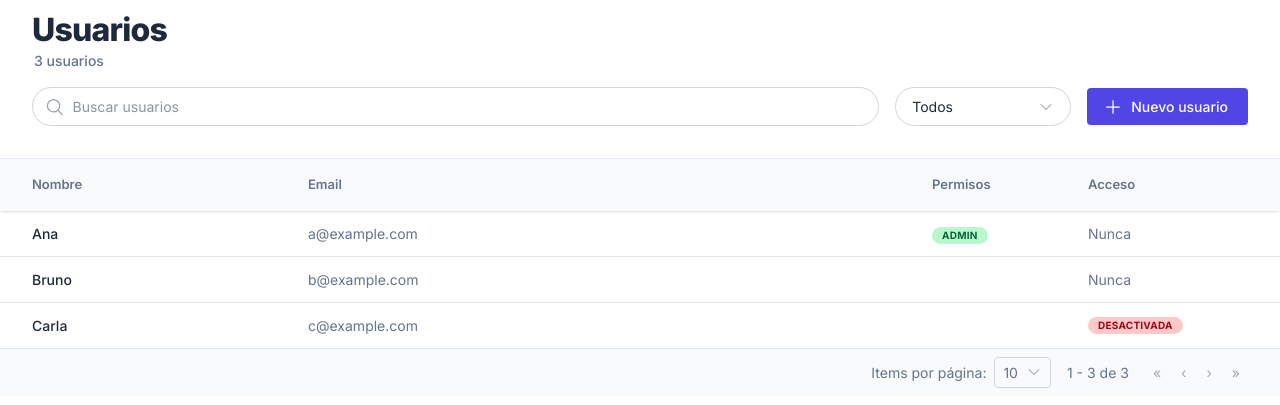
Scenario: AccountsList › filtra por administradores y por quien no tiene acceso
Expected: the text "Ana" is shown, [32,225,58,242]
Click the dropdown named "Filtrar usuarios". click: (983, 106)
box: [895,87,1071,126]
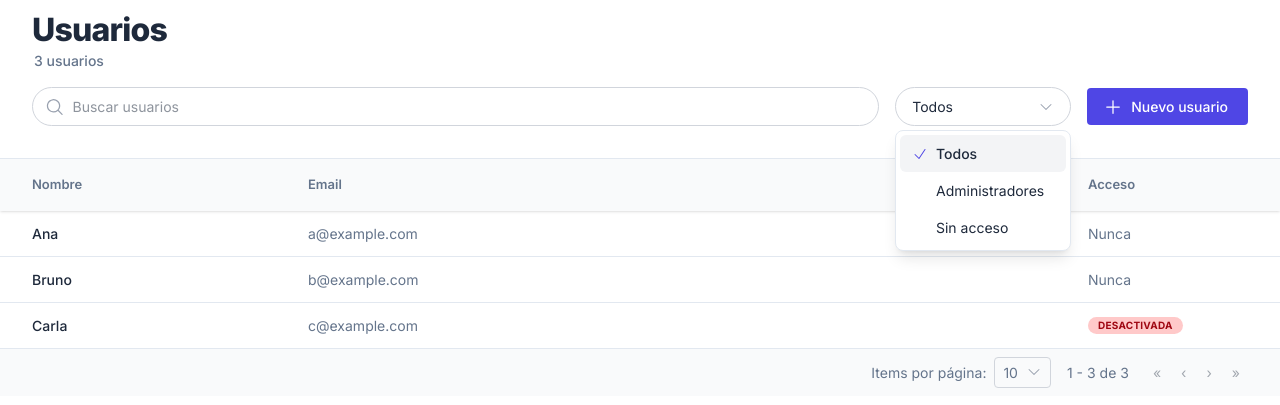
Click the option "Administradores". click: (990, 190)
box: [936,182,1044,199]
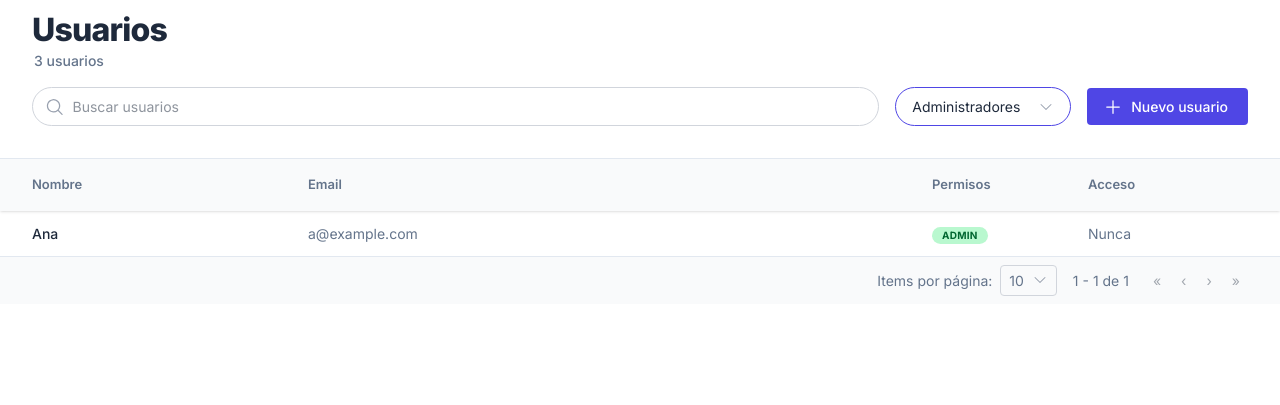
Expected: the text "Ana" is shown, [32,225,58,242]
Expected: the link "Bruno" is gone
Click the dropdown named "Filtrar usuarios". click: (983, 106)
box: [895,87,1071,126]
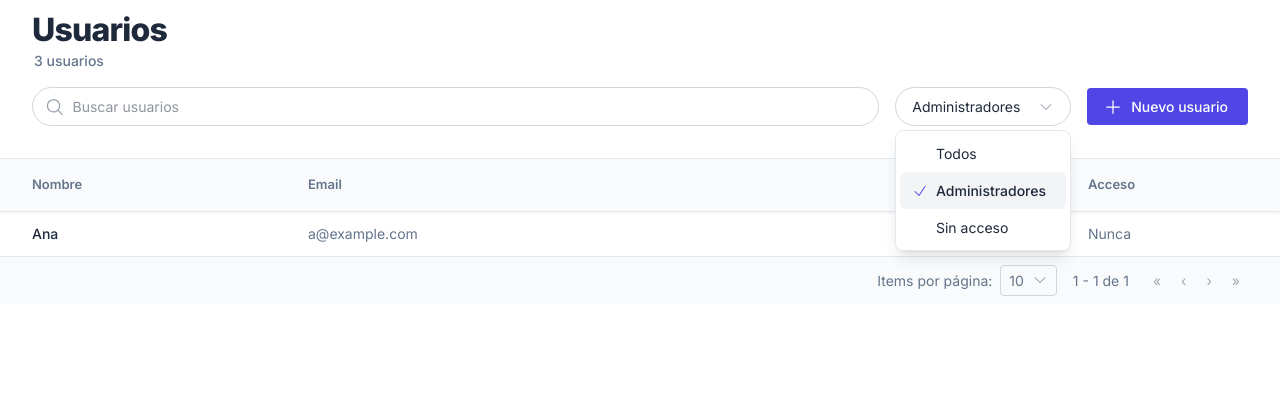
Click the option "Sin acceso". click: (972, 228)
box: [936,219,1008,236]
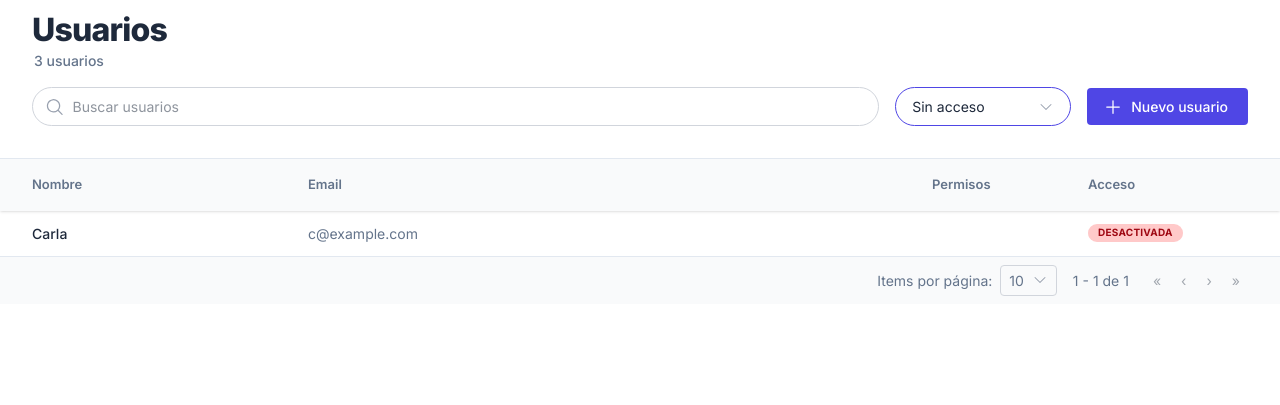
Expected: the text "Carla" is shown, [32,224,67,242]
Expected: the link "Ana" is gone
